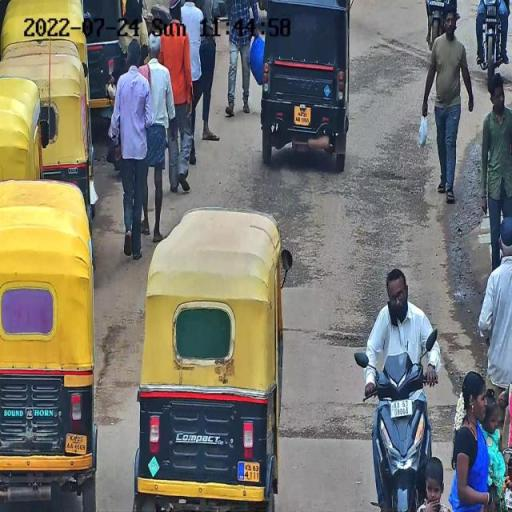using mobile: (383, 294, 403, 330)
